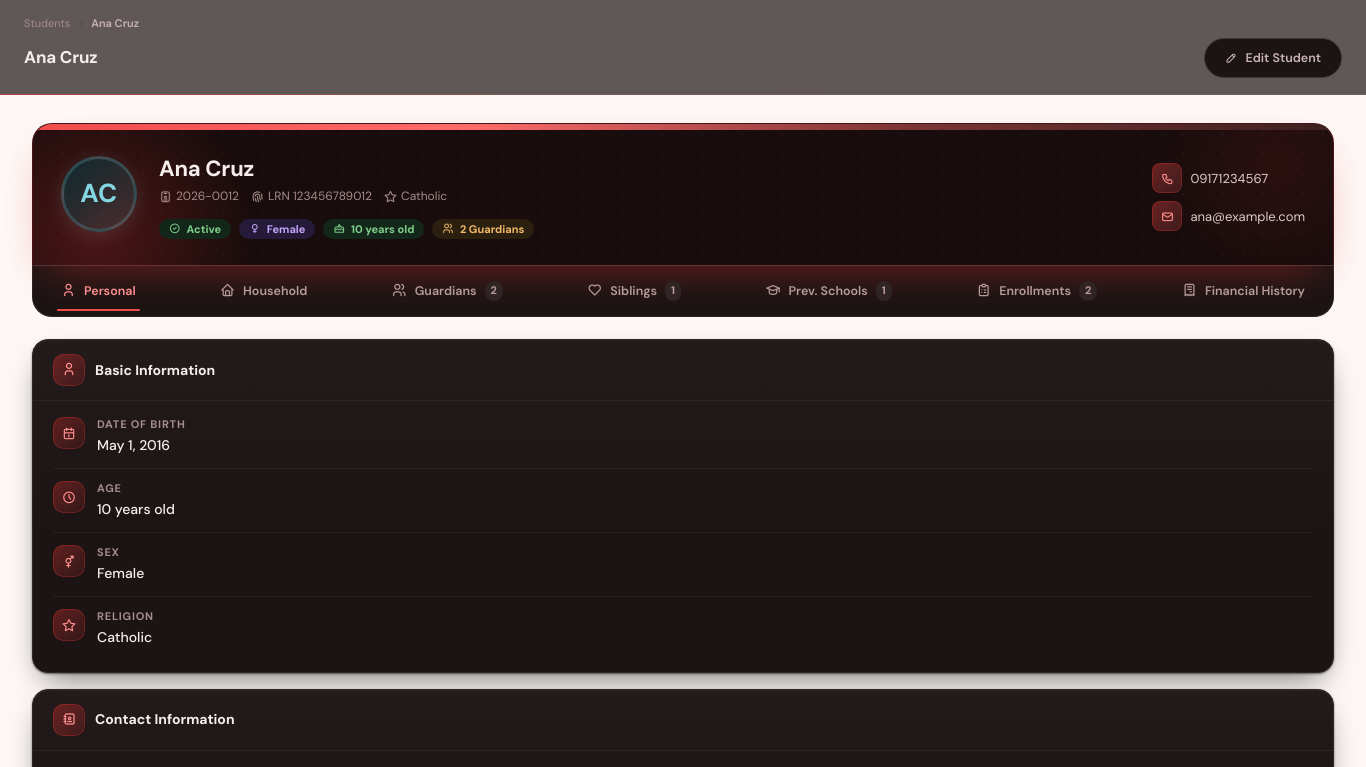
Scenario: Student detail in dark mode › draws the profile header as the brand panel and every tab's content
The image size is (1366, 767).
expect the text "09171234567" is shown: met, box [1152, 163, 1268, 193]
Click the tab "Guardians 2" at (447, 291), box [376, 271, 519, 311]
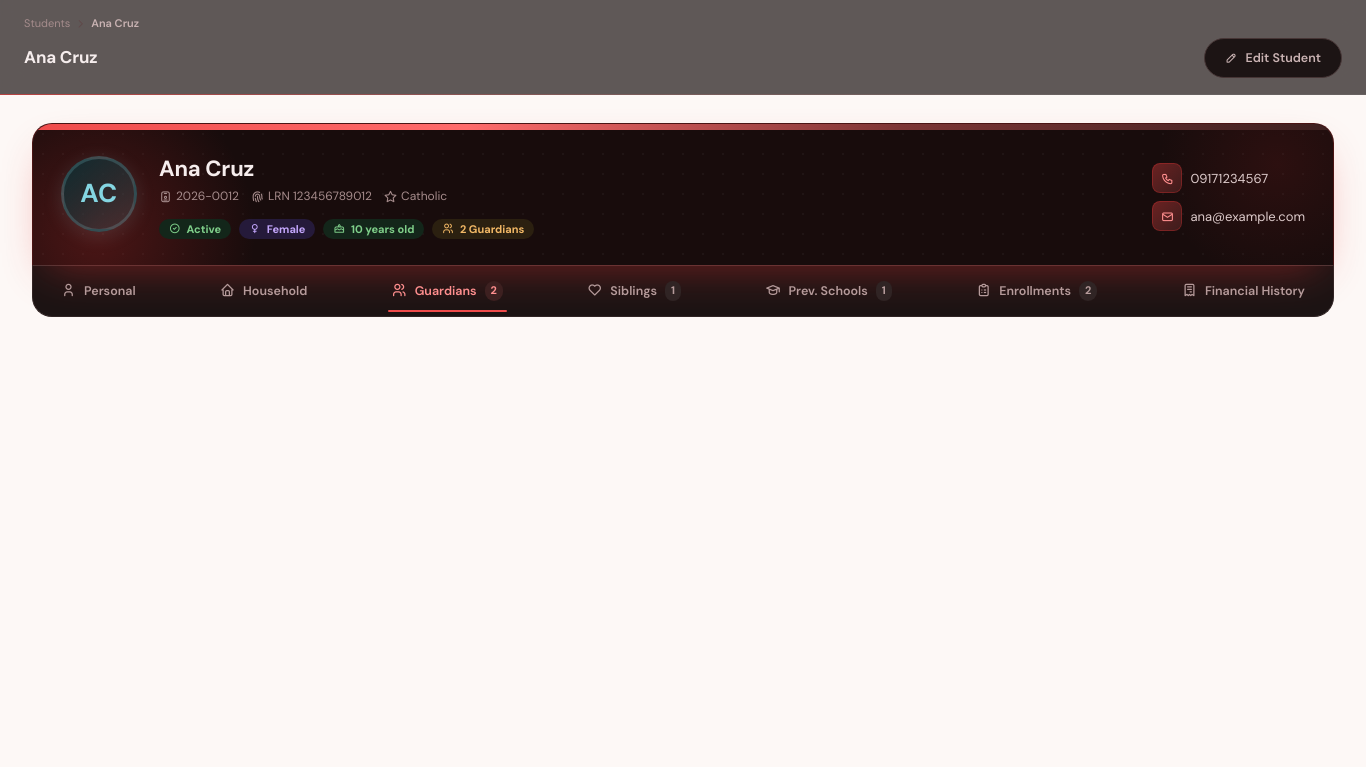
Click the tab "Siblings 1" at (634, 291), box [571, 271, 697, 311]
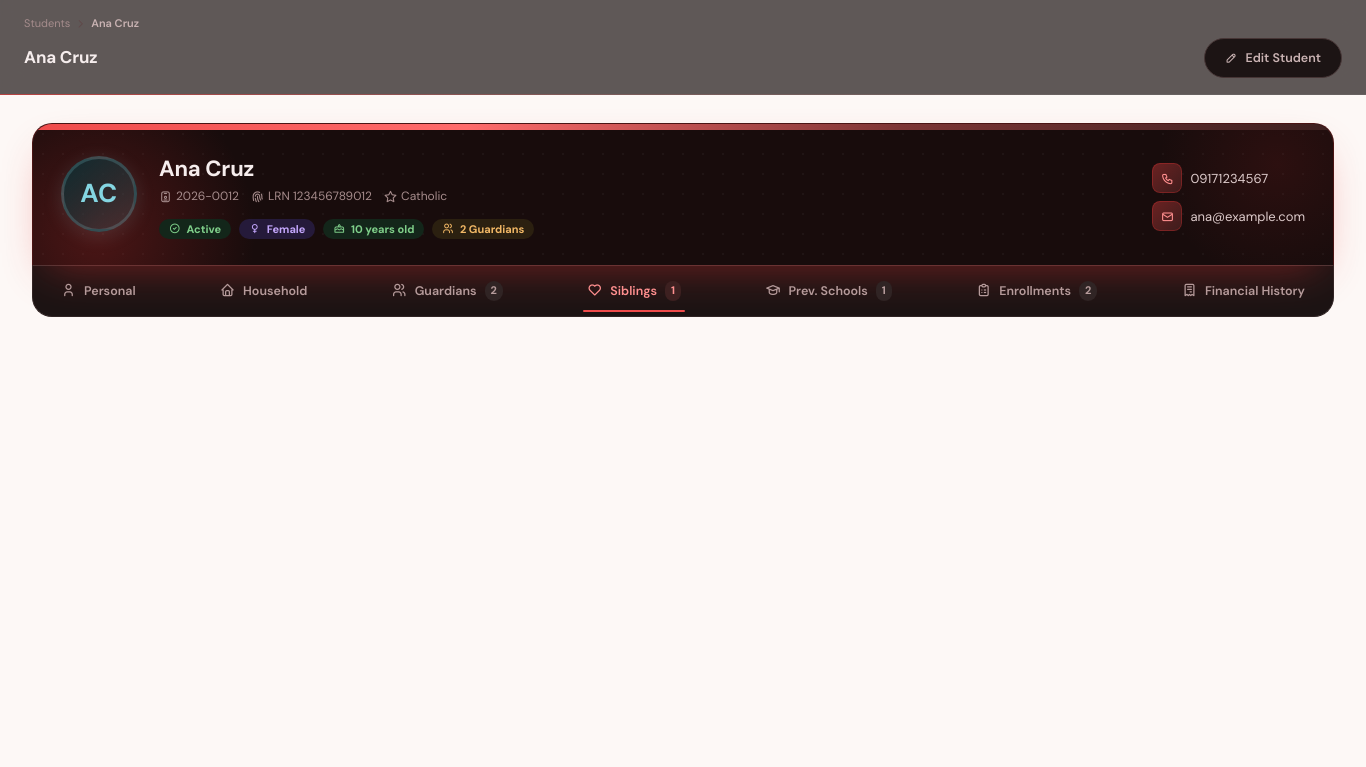
Click the tab "Prev. Schools 1" at (829, 291), box [750, 271, 908, 311]
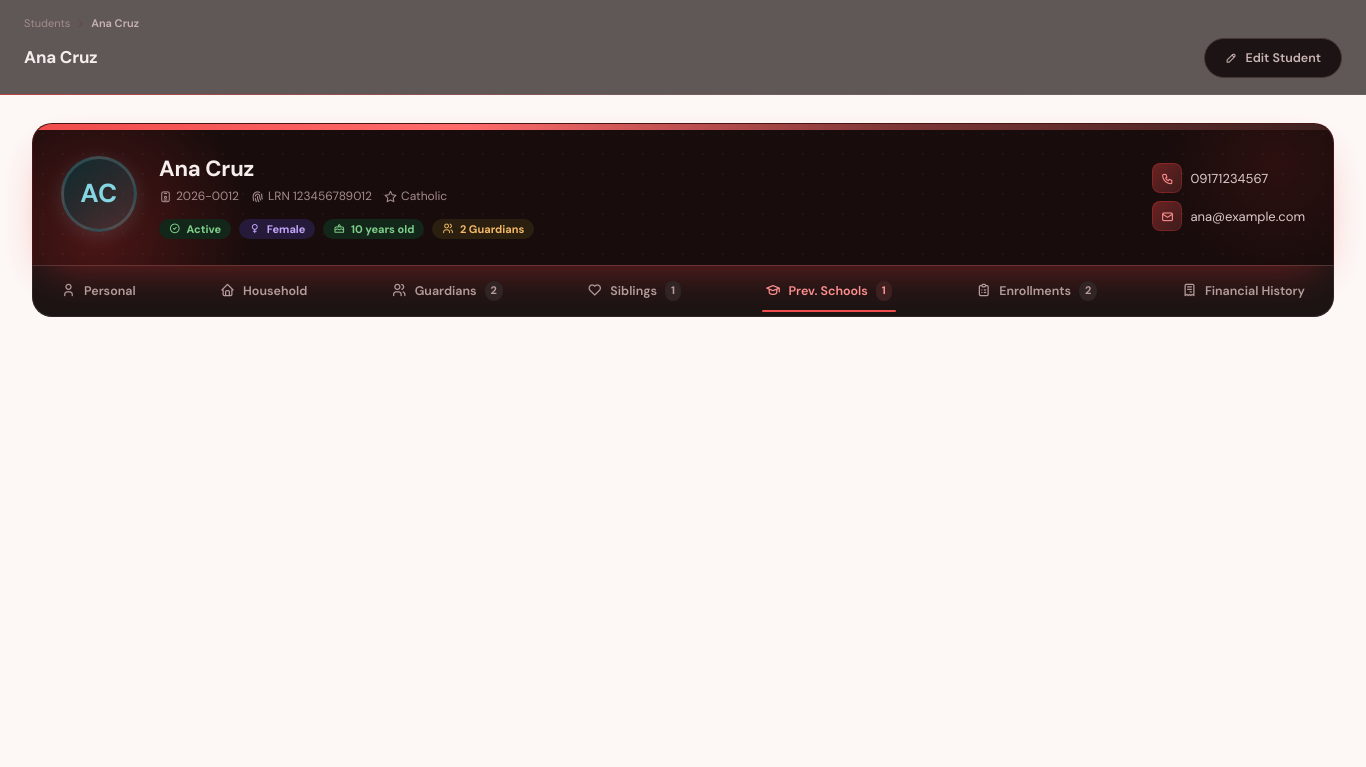
Click the tab "Enrollments 2" at (1037, 291), box [960, 271, 1113, 311]
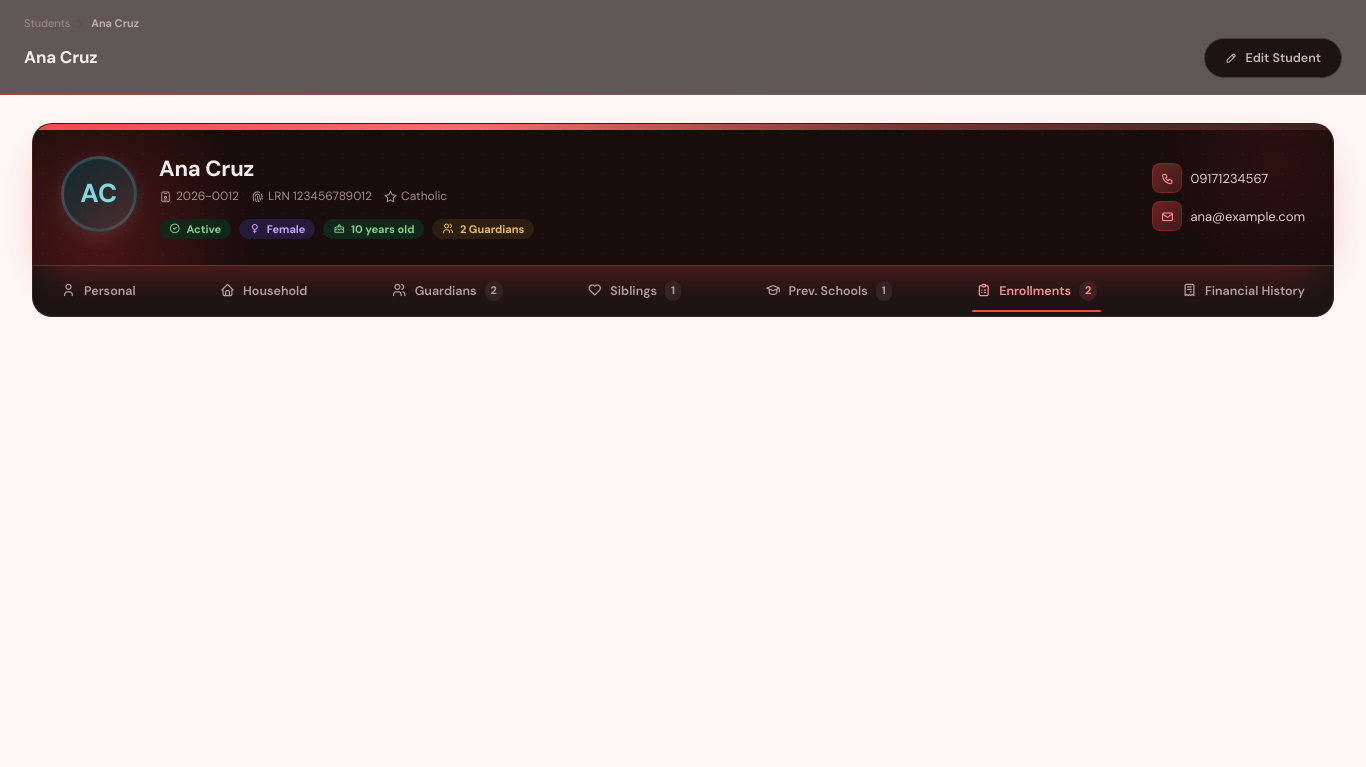
Click the tab "Financial History" at (1243, 291), box [1166, 272, 1321, 310]
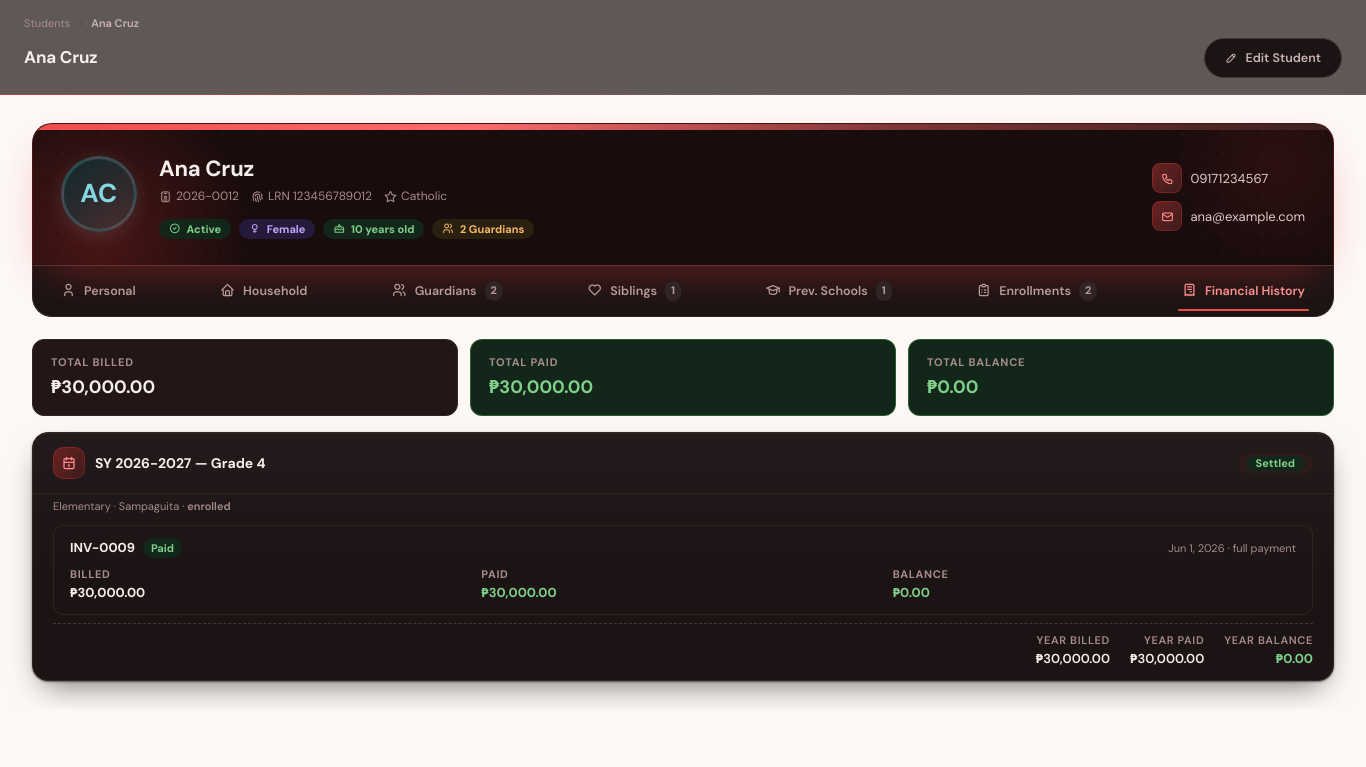
expect the text "INV-0009" is shown: met, box [70, 538, 135, 558]
expect the text "Settled" is shown: met, box [1246, 456, 1305, 471]
expect the text "Total Paid" is shown: met, box [489, 355, 558, 369]
